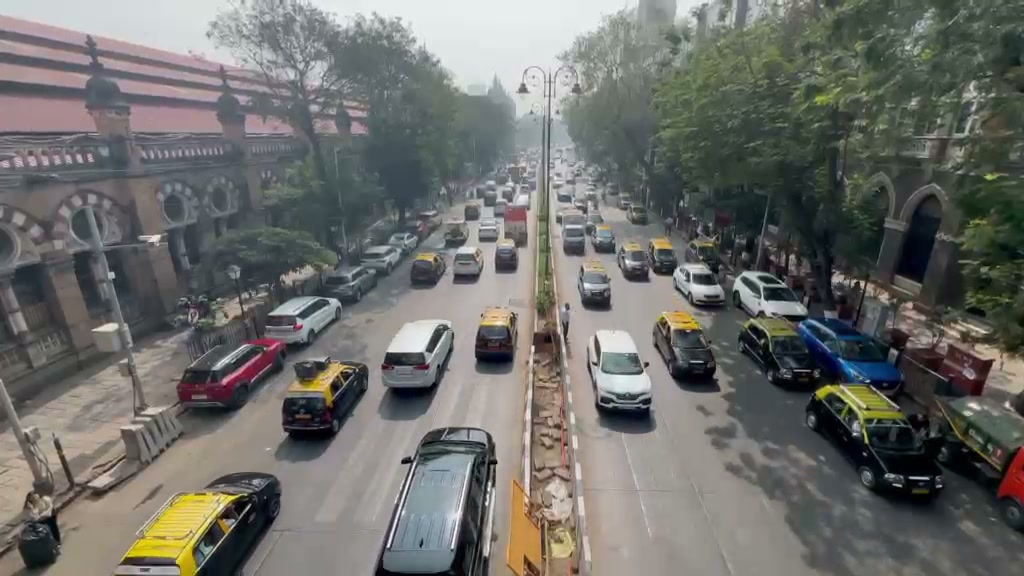car: (374, 426, 500, 574), (114, 471, 282, 574), (797, 315, 905, 395), (175, 336, 288, 412), (281, 356, 370, 439), (737, 314, 818, 390), (586, 328, 654, 417), (380, 318, 456, 392), (651, 309, 717, 381), (260, 294, 342, 347), (732, 270, 809, 320), (672, 262, 727, 309), (995, 444, 1024, 533), (319, 261, 378, 304), (474, 306, 518, 363), (576, 267, 613, 310), (410, 250, 448, 287), (453, 247, 483, 281), (651, 239, 678, 274), (494, 241, 519, 273)
truck: (804, 381, 946, 500), (931, 394, 1024, 536), (931, 394, 1023, 482)
